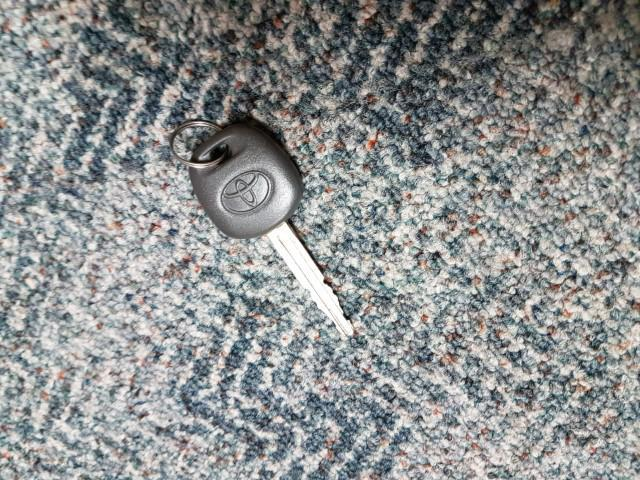key: (190, 120, 356, 339)
